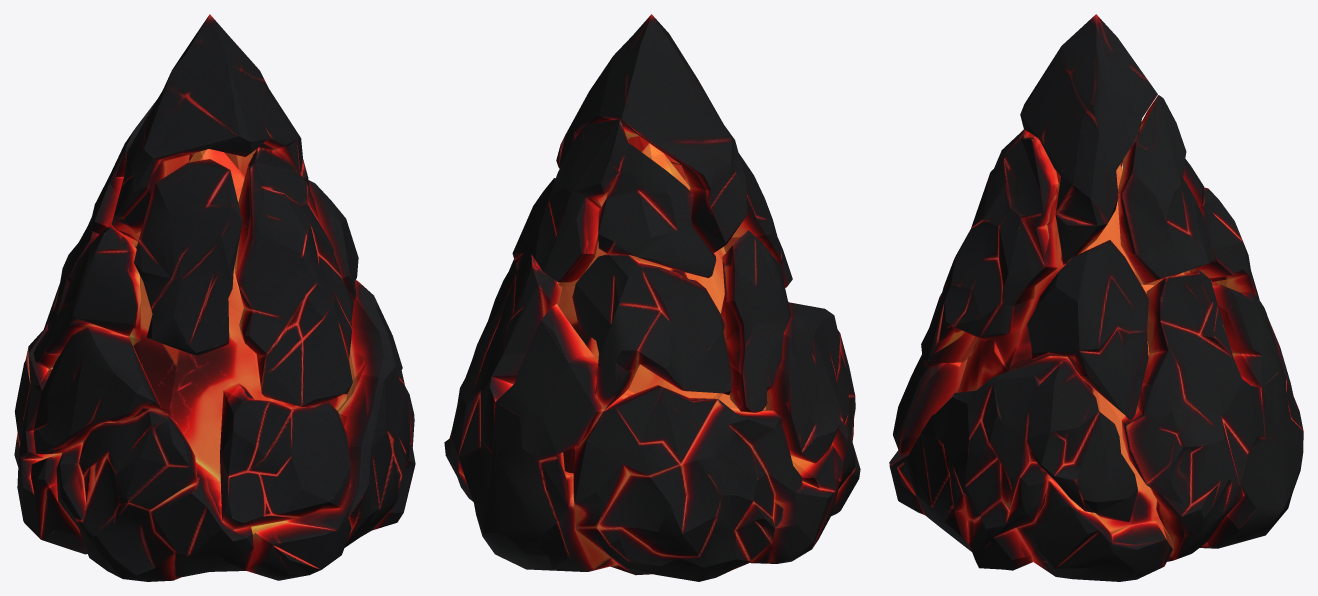
Rendered from pillar-lava.glb.
3 views of the same model, side by side, from view 1: azimuth 30°, elevation 25°; view 2: azimuth 150°, elevation 25°; view 3: azimuth 270°, elevation 25° (orthographic).
Bounding box in the file's own units: 1.43 × 1.9 × 1.44.
1 material, 1 textured.
